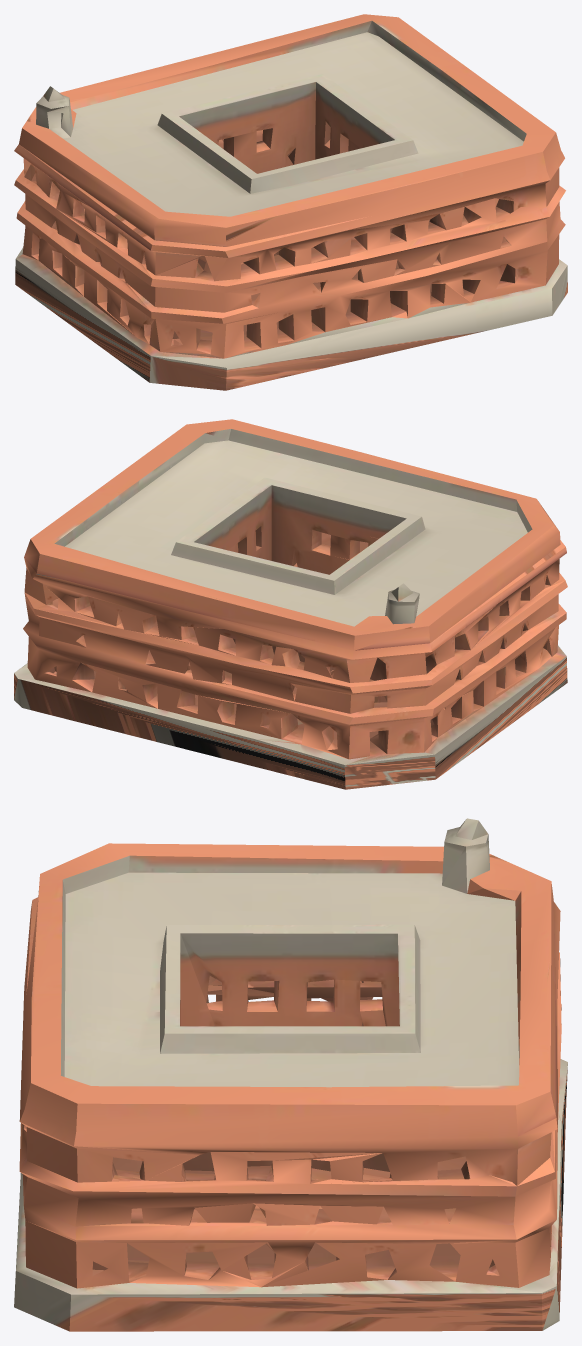
The model's file is fort-point.glb.
3 views of the same model, one above another, from view 1: azimuth 30°, elevation 25°; view 2: azimuth 150°, elevation 25°; view 3: azimuth 270°, elevation 25° (orthographic). The views are drawn at different scales.
Parts seen in each view (by area): view 1: fort-point; view 2: fort-point; view 3: fort-point.
Part boxes in pixels (x1,y1,x2,y2): fort-point: (14, 14, 567, 390); fort-point: (14, 419, 567, 789); fort-point: (14, 818, 567, 1331).
Size of the model in its own units: 11.98 by 5.34 by 10.2.
Materials: 1 (1 with a texture image).
